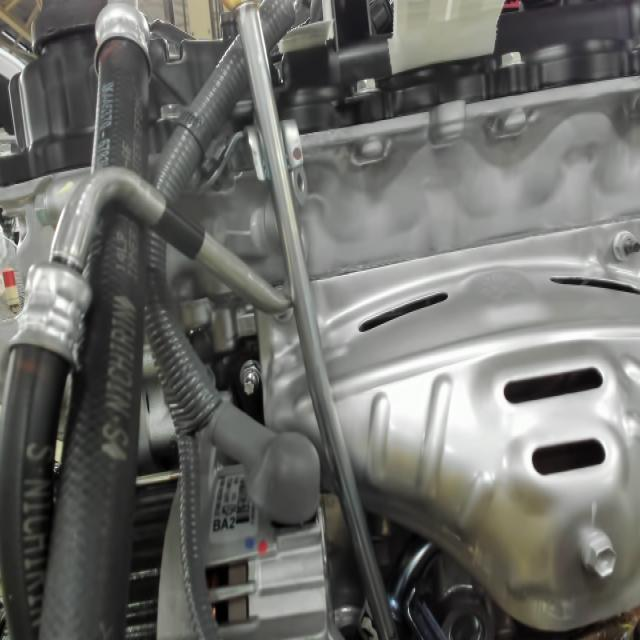Alternator-BA2: (208, 504, 260, 541)
Hose Discharge-HT: (143, 190, 215, 276)
